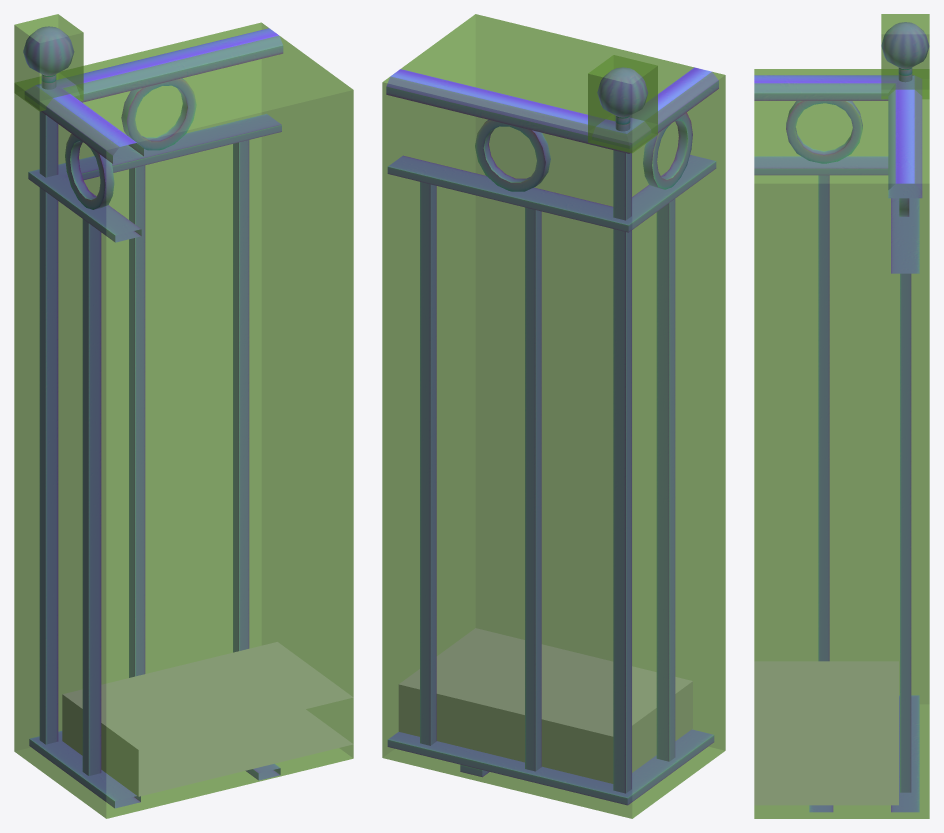
Rendered from F_md_Balcony_S_end_01_m.fbx.
3 renders of one model, left to right at view 1: azimuth 30°, elevation 25°; view 2: azimuth 150°, elevation 25°; view 3: azimuth 270°, elevation 25°, orthographic. The views are drawn at different scales.
Visible parts, largest first — view 1: F_md_Balcony_S_end_01_m_col_01, F_md_Balcony_S_end_01_m_LOD0, F_md_Balcony_S_end_01_m_col_02; view 2: F_md_Balcony_S_end_01_m_col_01, F_md_Balcony_S_end_01_m_LOD0, F_md_Balcony_S_end_01_m_col_02; view 3: F_md_Balcony_S_end_01_m_col_01, F_md_Balcony_S_end_01_m_LOD0, F_md_Balcony_S_end_01_m_col_02.
Part boxes in pixels (left/top/right/bottom): F_md_Balcony_S_end_01_m_col_01: left=14, top=22, right=353, bottom=818; F_md_Balcony_S_end_01_m_LOD0: left=23, top=26, right=353, bottom=808; F_md_Balcony_S_end_01_m_col_02: left=14, top=14, right=83, bottom=111; F_md_Balcony_S_end_01_m_col_01: left=382, top=14, right=725, bottom=818; F_md_Balcony_S_end_01_m_LOD0: left=386, top=67, right=718, bottom=805; F_md_Balcony_S_end_01_m_col_02: left=588, top=55, right=657, bottom=153; F_md_Balcony_S_end_01_m_col_01: left=754, top=69, right=929, bottom=818; F_md_Balcony_S_end_01_m_LOD0: left=754, top=22, right=929, bottom=812; F_md_Balcony_S_end_01_m_col_02: left=881, top=14, right=929, bottom=98.
Size of what is drawn, in the model's own units: 41.64 by 117 by 26.89.
